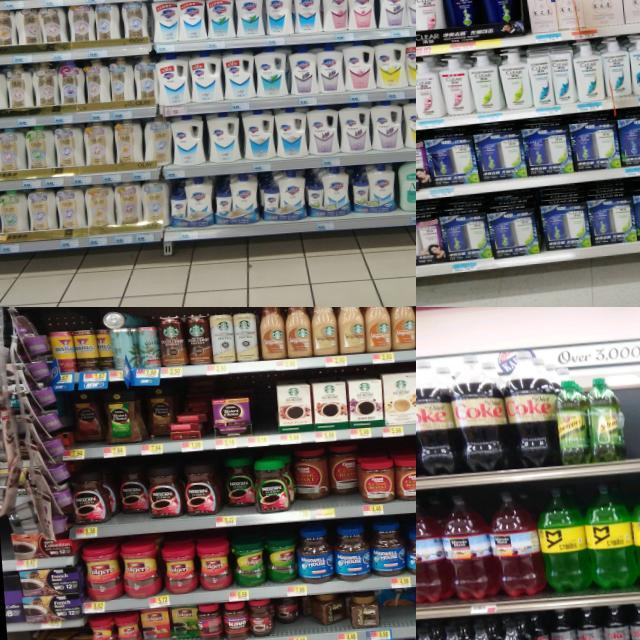empty: (250, 378, 276, 446), (623, 379, 640, 471)
